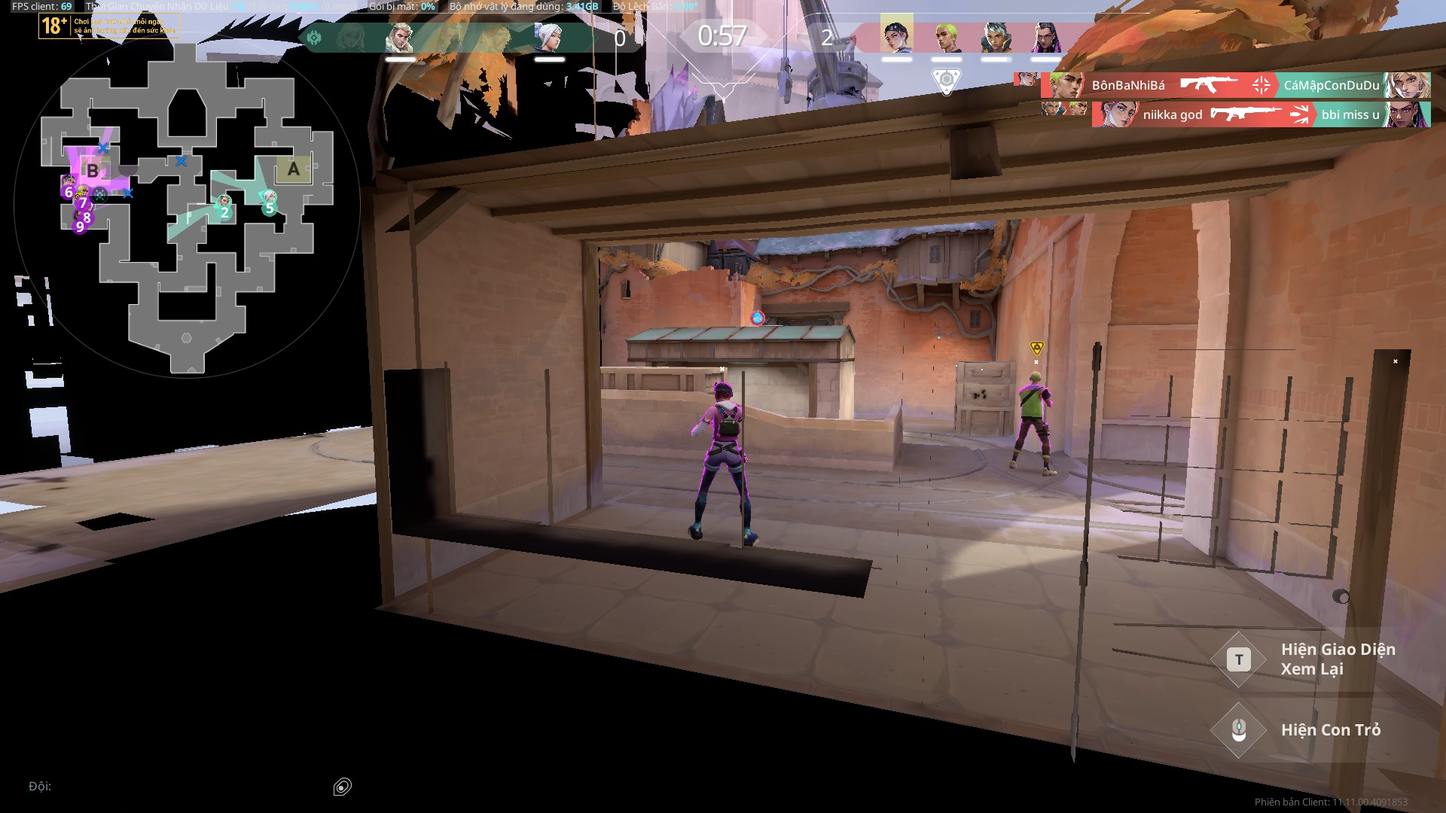body: (705, 401, 751, 449)
head: (712, 381, 741, 403)
